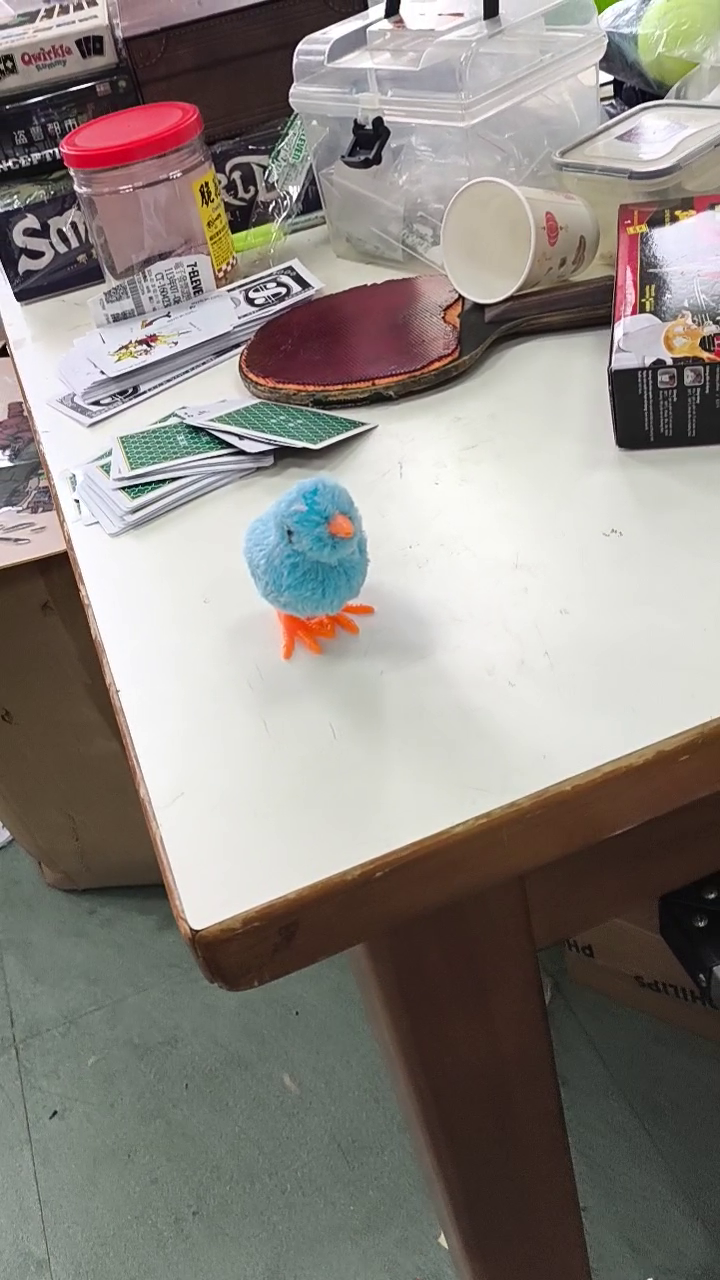blue chicken: (241, 475, 381, 669)
